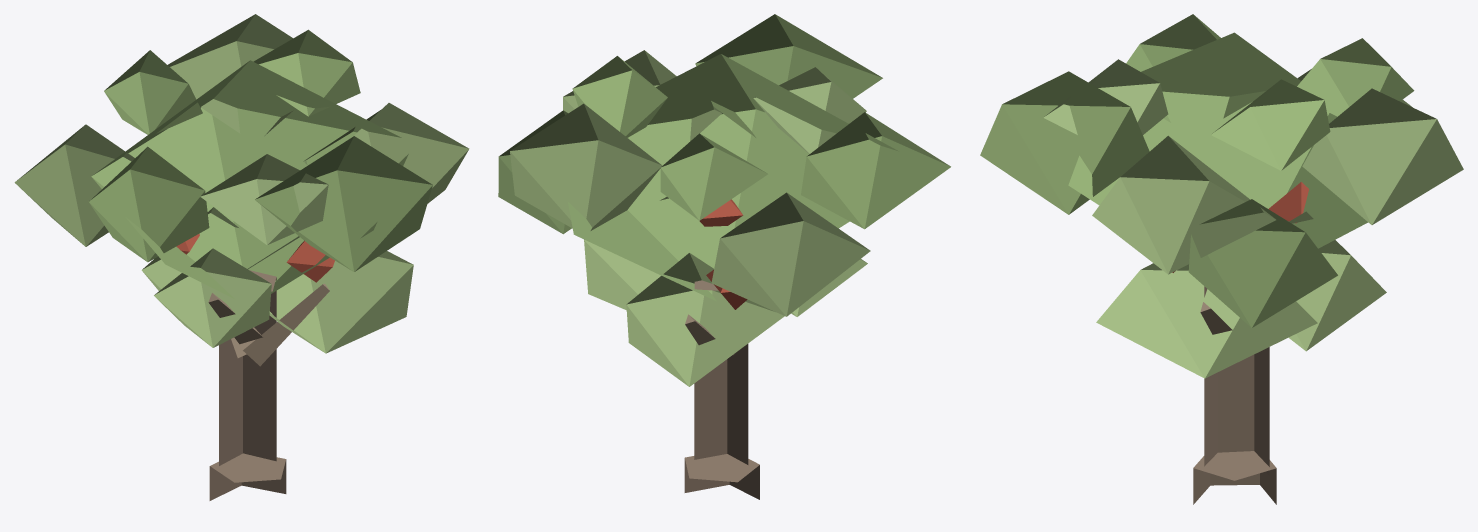
File: tree.temp.oak__spring.glb
3 views of the same model, side by side, from view 1: azimuth 30°, elevation 25°; view 2: azimuth 150°, elevation 25°; view 3: azimuth 270°, elevation 25° (orthographic). The views are drawn at different scales.
Parts seen in each view (by area): view 1: tree.temp.oak__spring; view 2: tree.temp.oak__spring; view 3: tree.temp.oak__spring.
Part boxes in pixels (left/top/right/bottom): tree.temp.oak__spring: left=14, top=14, right=469, bottom=500; tree.temp.oak__spring: left=498, top=14, right=950, bottom=499; tree.temp.oak__spring: left=980, top=14, right=1463, bottom=504.
Size of the model in its own units: 12.19 by 13.09 by 12.29.
